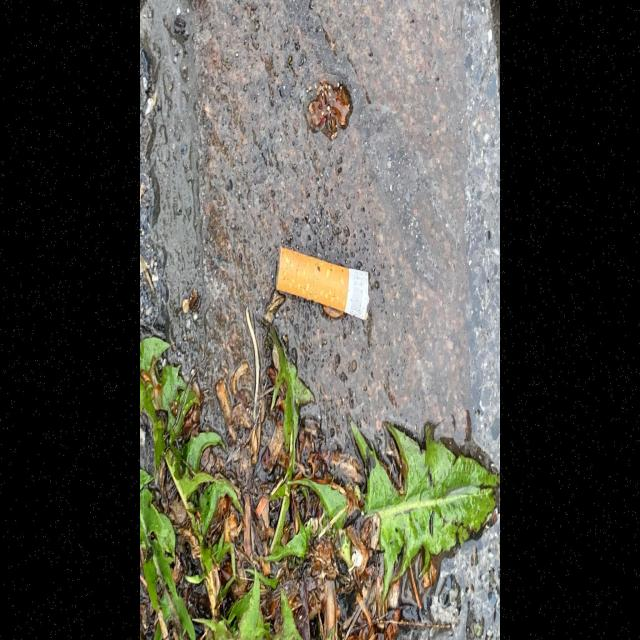other waste: (276, 244, 370, 322)
